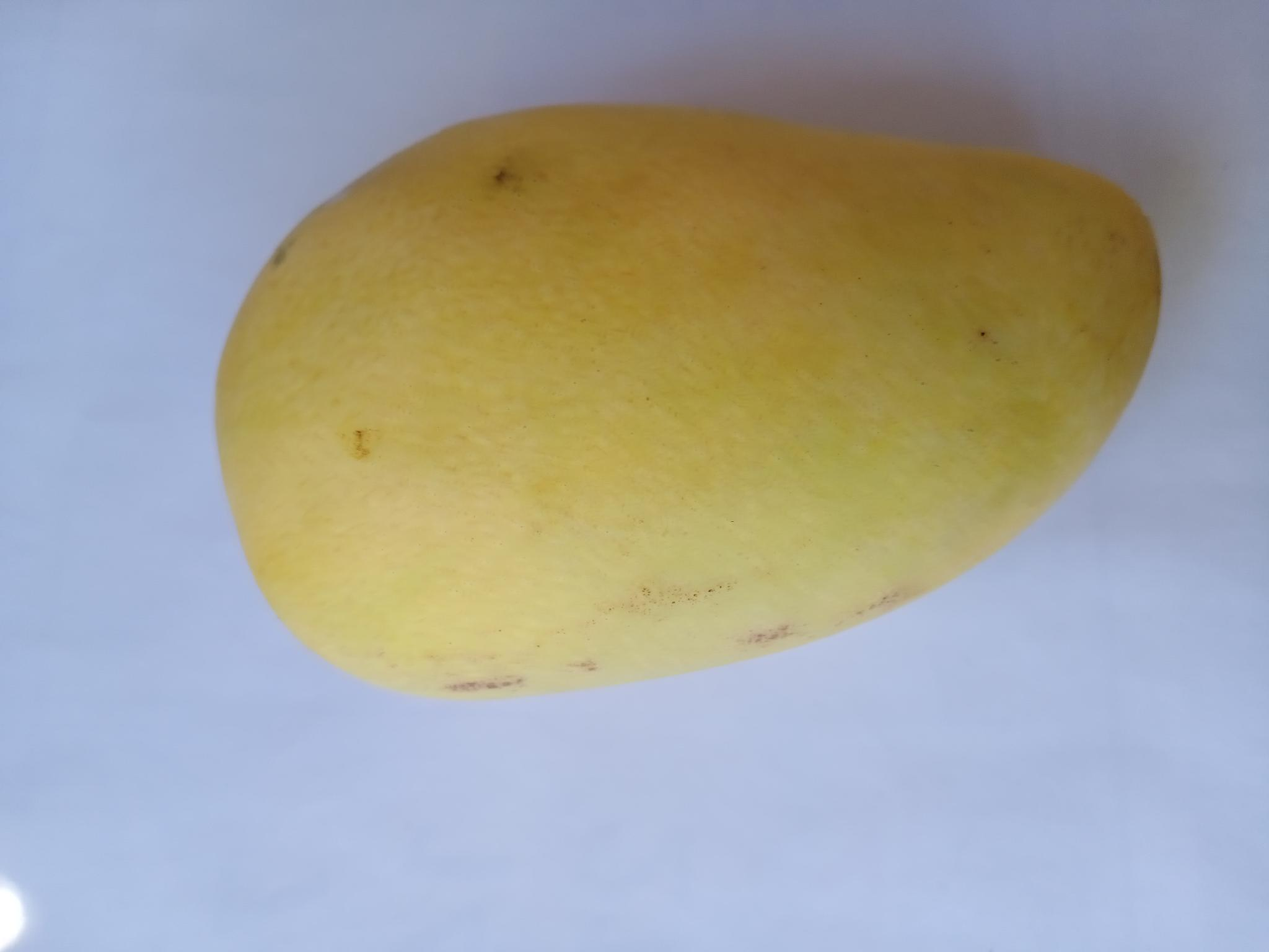Mango Ripe: (216, 105, 1161, 698)
